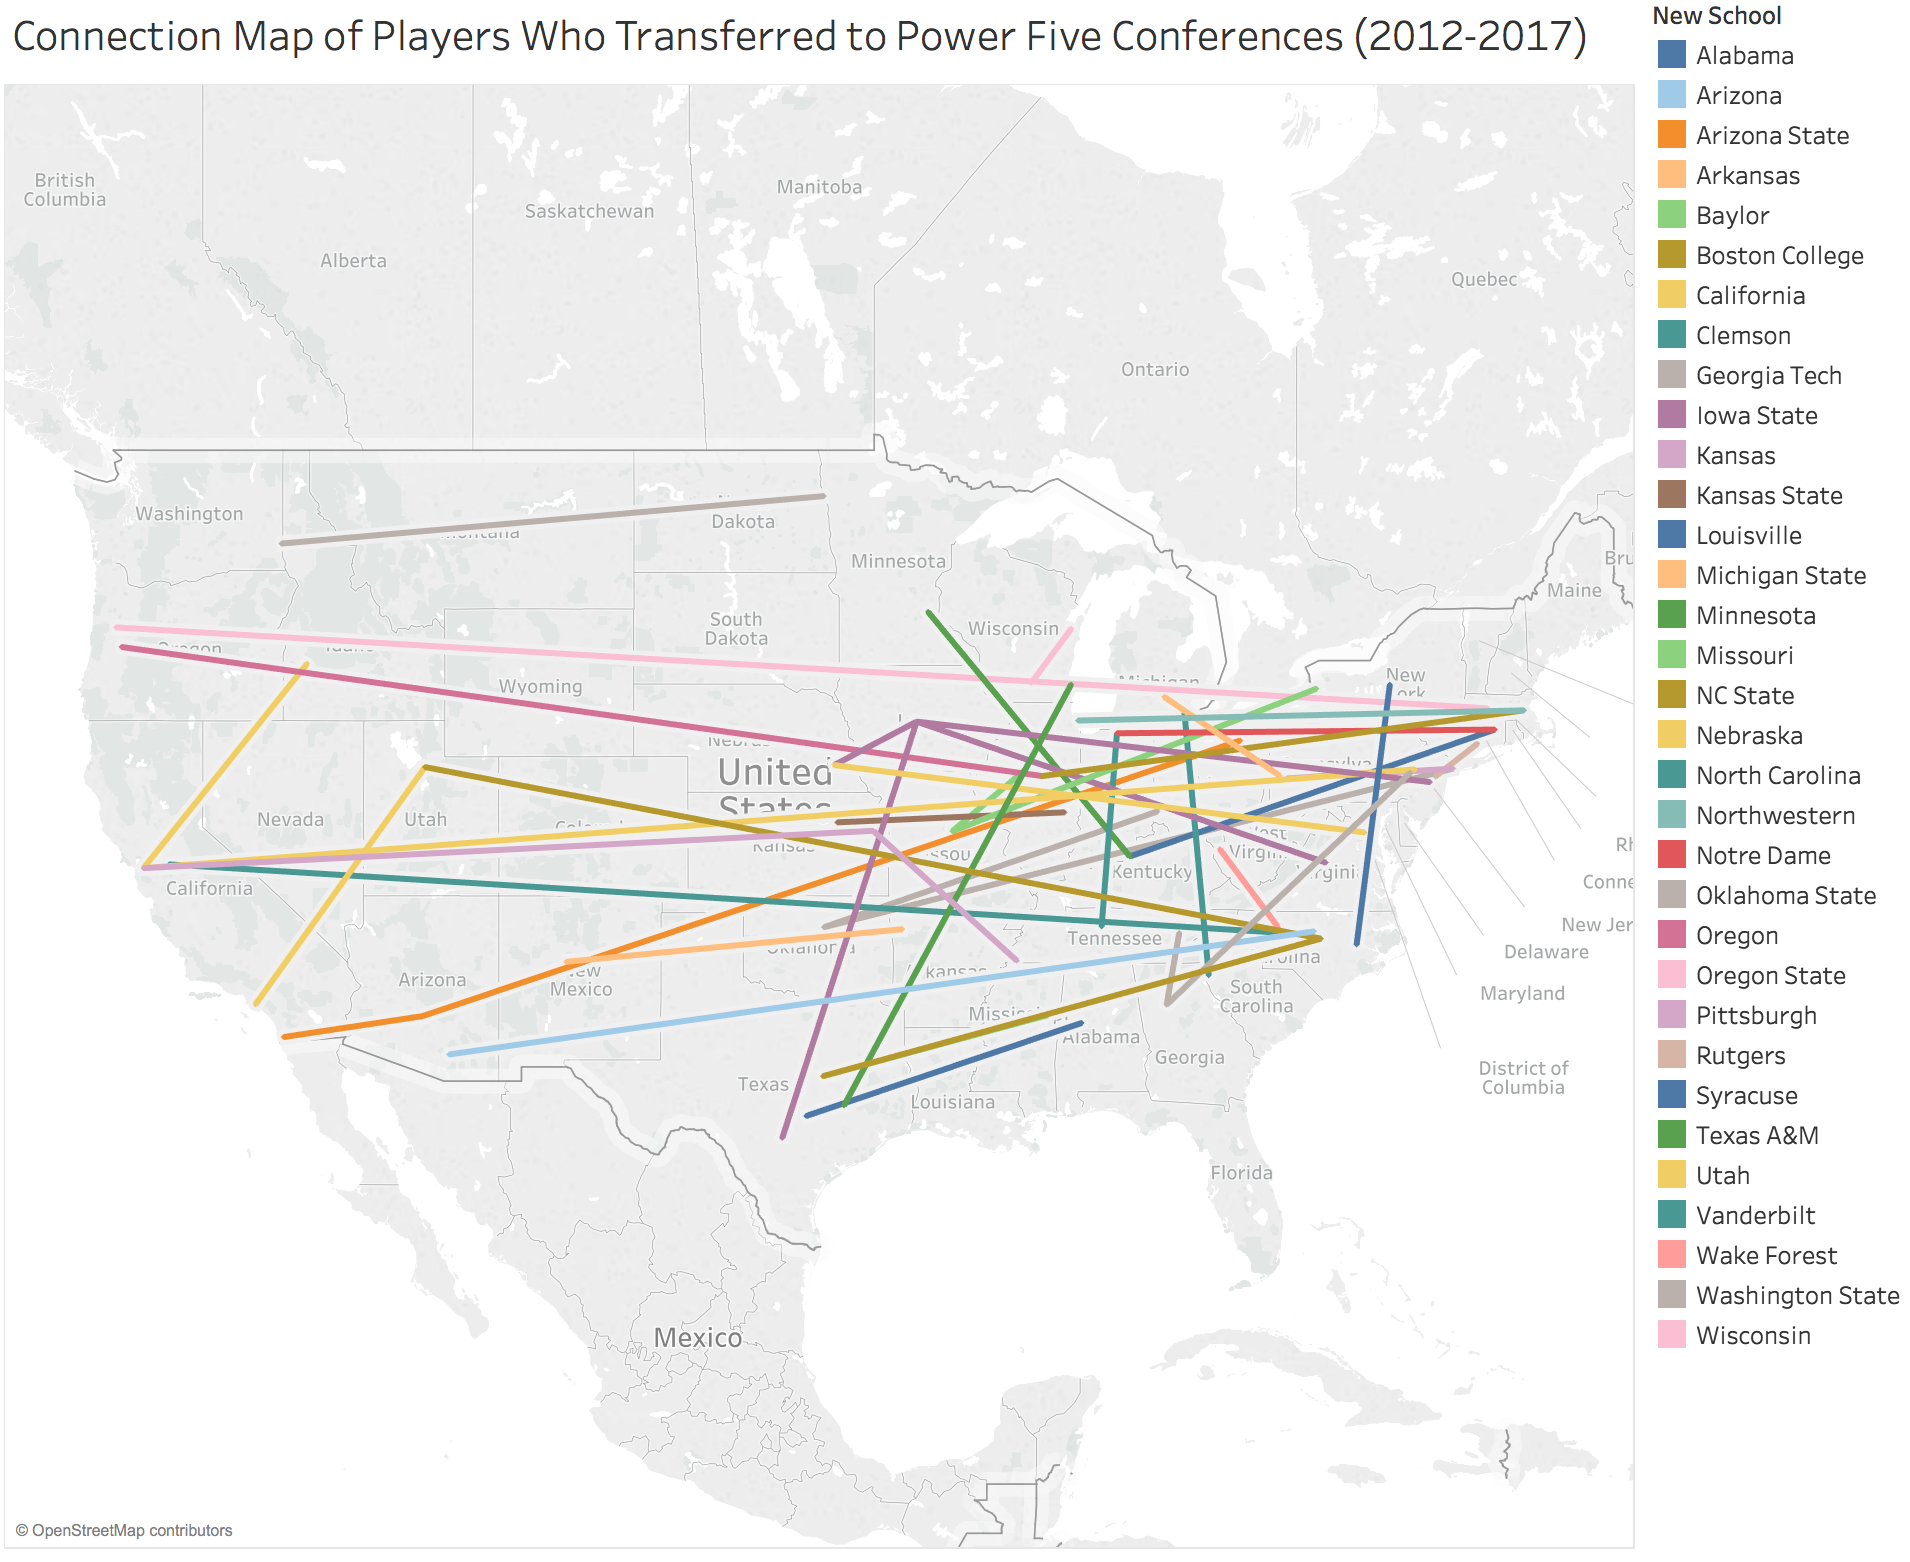

The page's visual inventory and layout, read from the dashboard file:
{"tool":"tableau","page":{"name":"Connection Map Dashboard","canvas":[1000,800],"ordinal":0},"visuals":[{"type":"worksheet","title":"Connection Map Sheet","mark":"Line","rows":["lat"],"cols":["lon"],"box":[8,8,824,784]},{"type":"legend","title":"Connection Map Sheet","param":"[federated.1g6h3is166ho0m1c2b5q007evn91].[none:new_school:nk]","box":[832,8,160,784]}]}

Visuals, with their boxes in screenshot pixels (x1, y1, x2, y2), scaled from the page's 1000x800 canvas onto the 1910x1562 screenshot:
"Connection Map Sheet" worksheet (Line marks): left=15, top=16, right=1589, bottom=1546
"Connection Map Sheet" legend: left=1589, top=16, right=1895, bottom=1546
